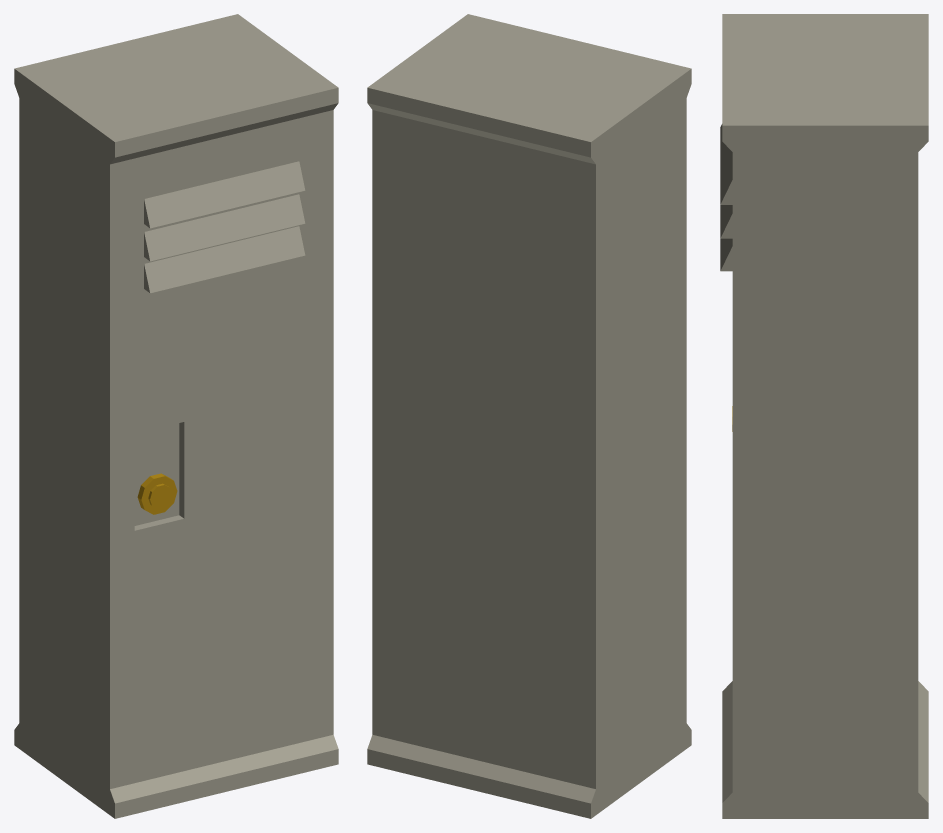
The model's file is fbx_school_locker.fbx.
The picture shows the model from 3 angles, left to right: view 1: azimuth 30°, elevation 25°; view 2: azimuth 150°, elevation 25°; view 3: azimuth 270°, elevation 25°; orthographic projection. The views are drawn at different scales.
Parts seen in each view (by area): view 1: fbx_school_locker; view 2: fbx_school_locker; view 3: fbx_school_locker.
Part boxes in pixels (box(x1,y1,x2,y2)): fbx_school_locker: box(14, 14, 338, 818); fbx_school_locker: box(367, 14, 691, 818); fbx_school_locker: box(720, 14, 928, 818).
Size of the model in its own units: 1.15 by 3.34 by 0.9081.
Materials: 1 (1 with a texture image).
